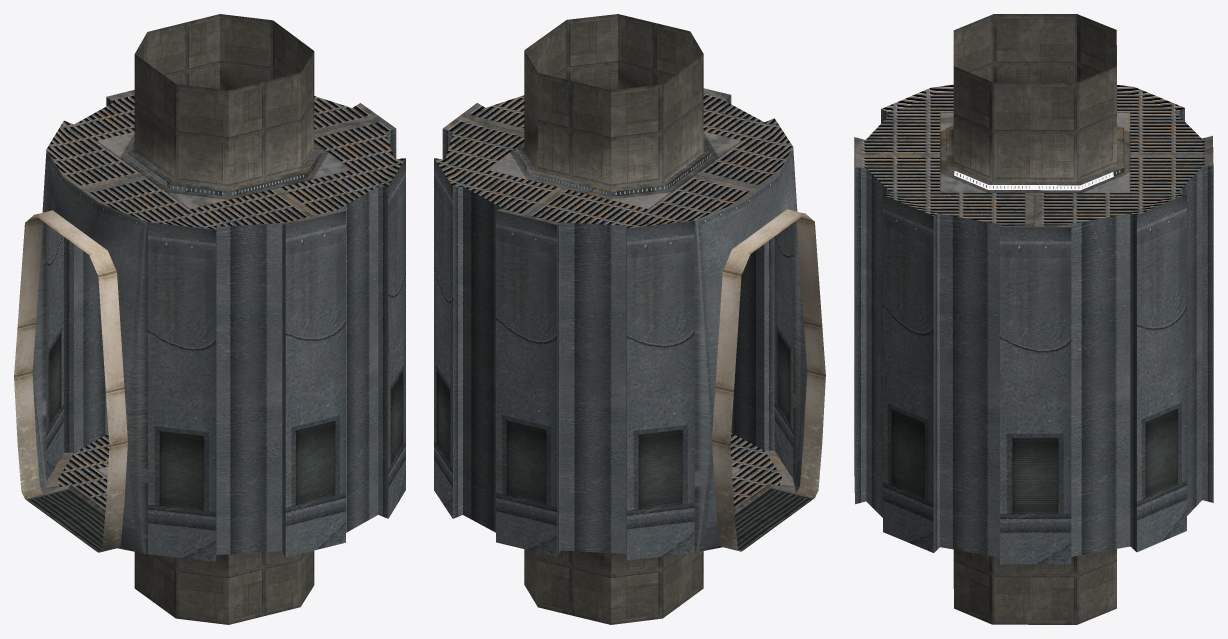
File: yt1300_r7_turretaccess_mesh_r7.fbx
The picture shows the model from 3 angles, left to right: view 1: azimuth 30°, elevation 25°; view 2: azimuth 150°, elevation 25°; view 3: azimuth 270°, elevation 25°; orthographic projection.
Visible parts, largest first — view 1: mesh_node; view 2: mesh_node; view 3: mesh_node.
Part boxes in pixels (x1,y1,x2,y2): mesh_node: (14, 14, 405, 624); mesh_node: (434, 14, 825, 624); mesh_node: (854, 14, 1213, 624).
Size of the model in its own units: 3.34 by 5.36 by 3.22.
